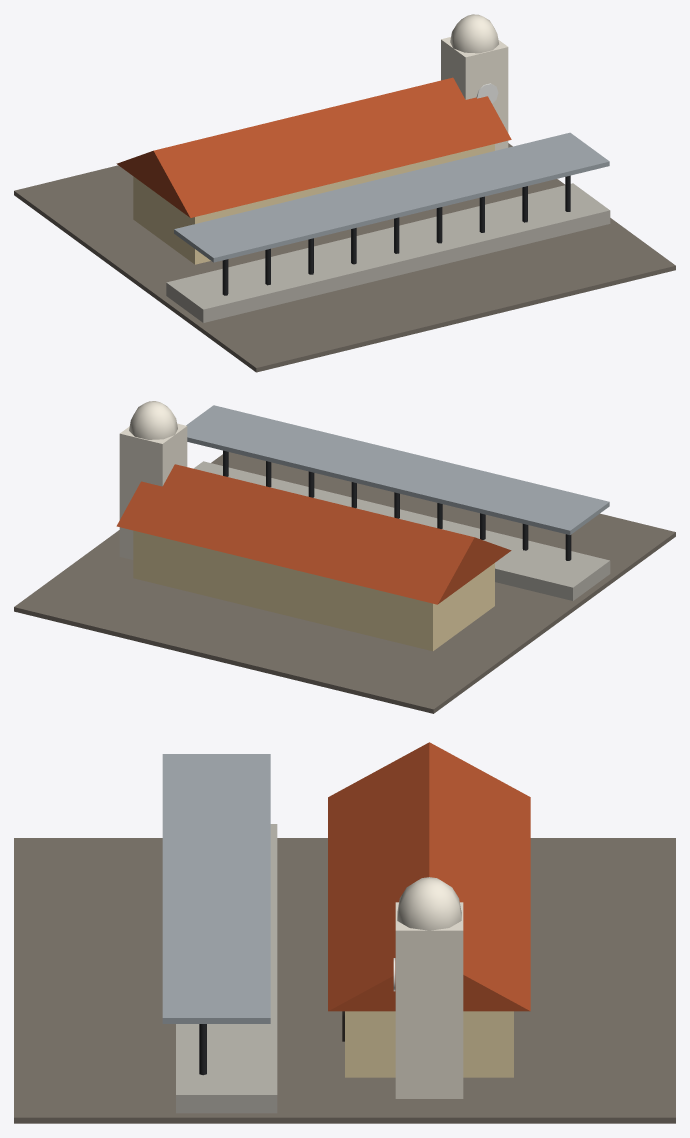
Rendered from building_stesen.glb.
3 views of the same model, one above another, from view 1: azimuth 30°, elevation 25°; view 2: azimuth 150°, elevation 25°; view 3: azimuth 270°, elevation 25° (orthographic). The views are drawn at different scales.
Visible parts, largest first — view 1: building_stesen; view 2: building_stesen; view 3: building_stesen.
Part boxes in pixels (x1,y1,x2,y2): building_stesen: [14, 14, 675, 372]; building_stesen: [14, 401, 675, 713]; building_stesen: [14, 742, 675, 1123].
Size of the model in its own units: 1.96 by 0.69 by 1.96.
